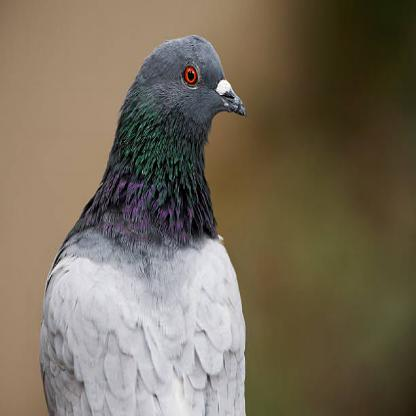Rock Pigeon: (31, 28, 258, 408)
